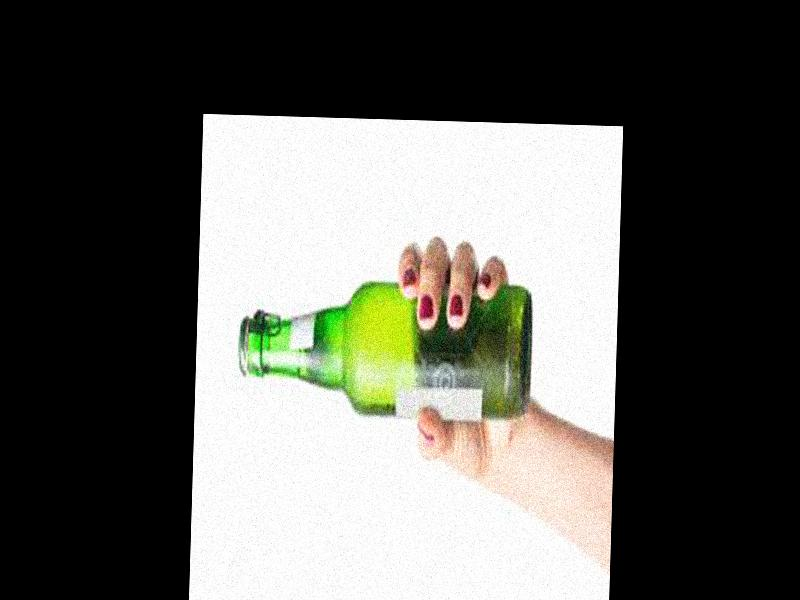Beer: (234, 277, 533, 425)
